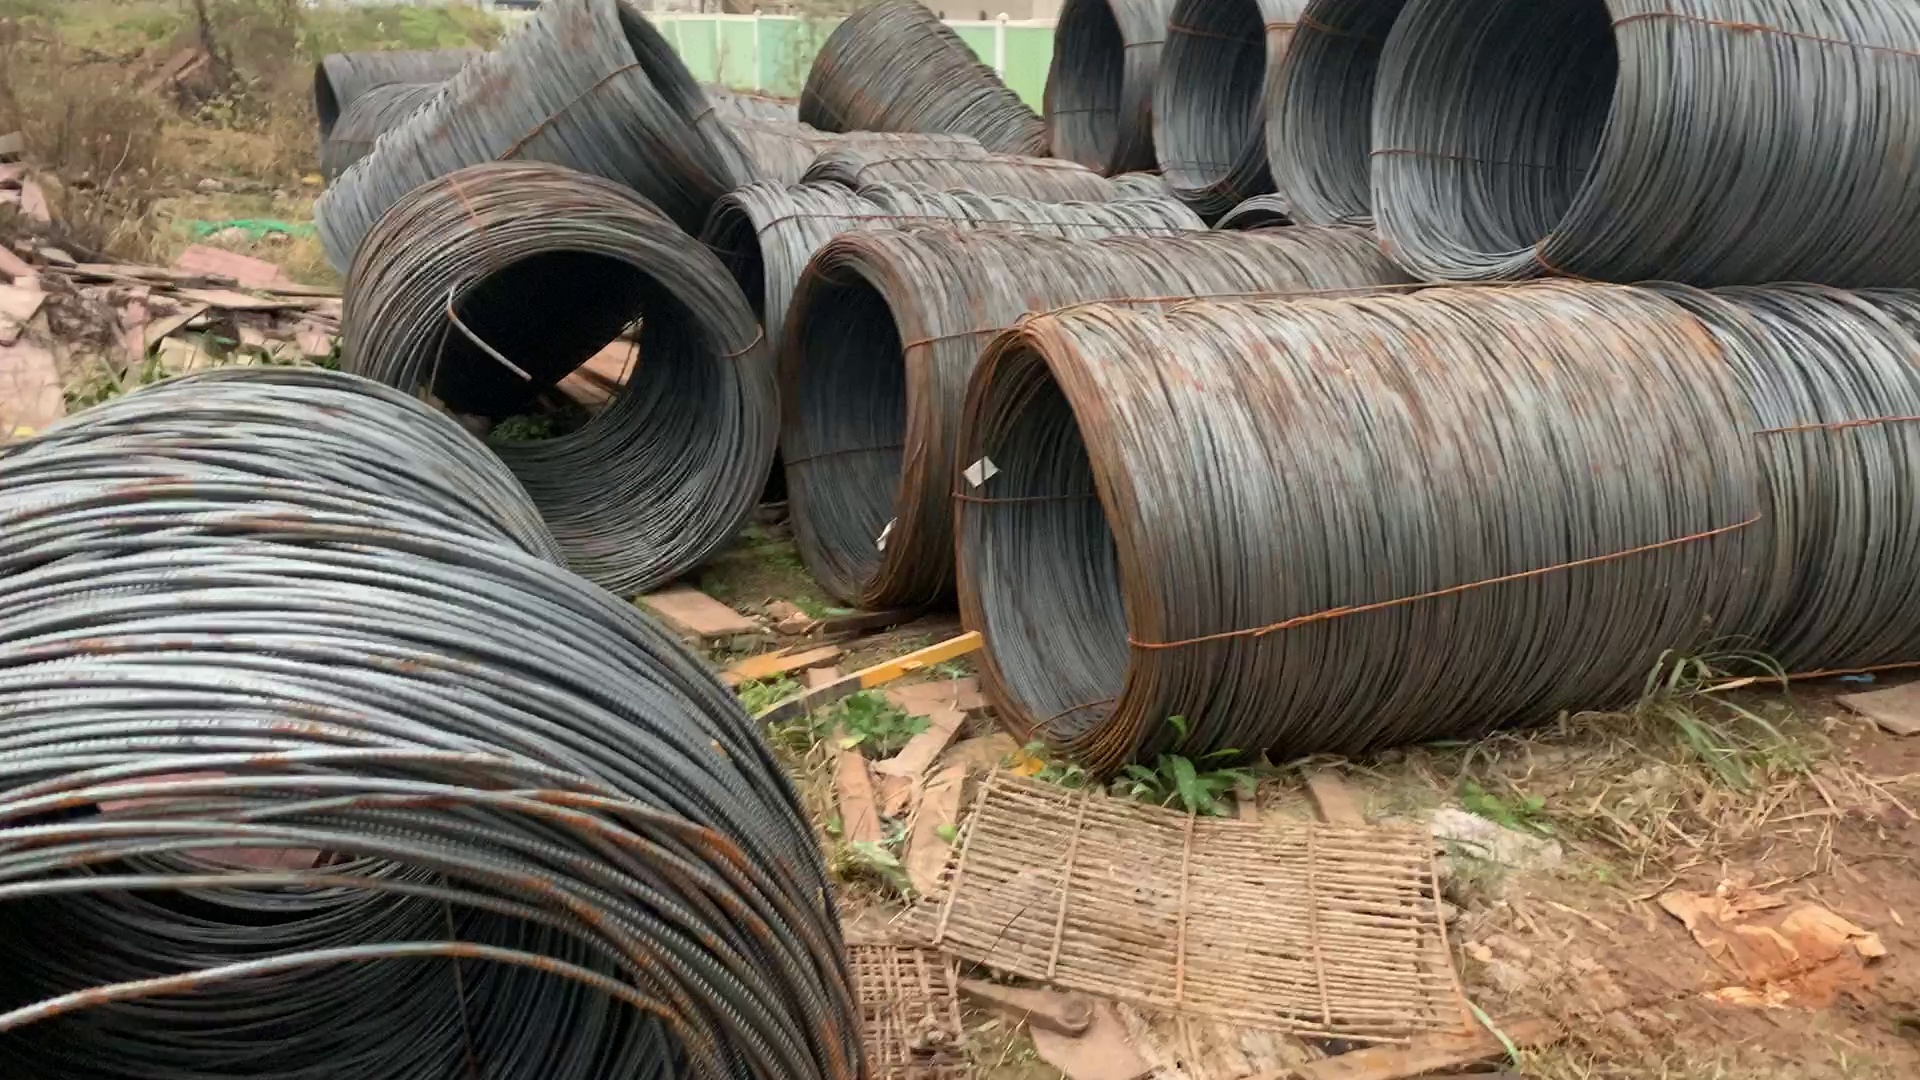coil: (4, 626, 841, 1080), (357, 229, 764, 588), (960, 320, 1174, 782), (1374, 3, 1627, 272), (774, 241, 932, 607), (582, 1, 774, 222), (1276, 1, 1396, 241), (1143, 4, 1269, 202), (1036, 1, 1135, 179), (293, 49, 345, 149)
